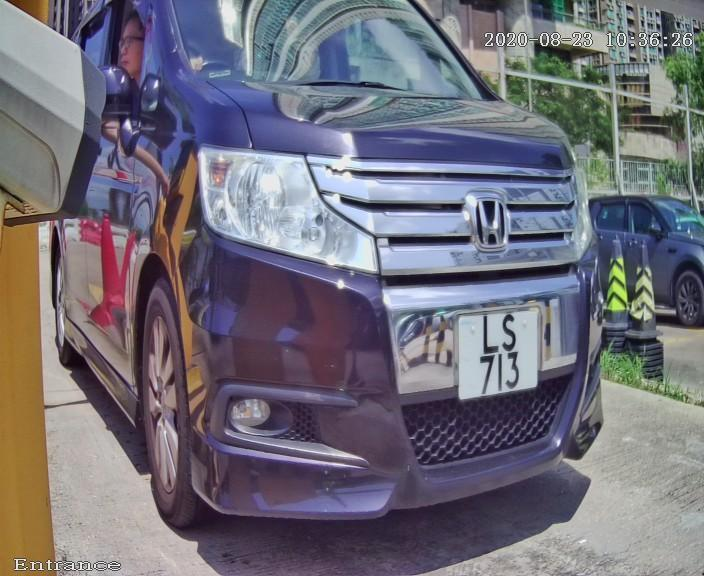License Plate: (433, 281, 561, 412)
